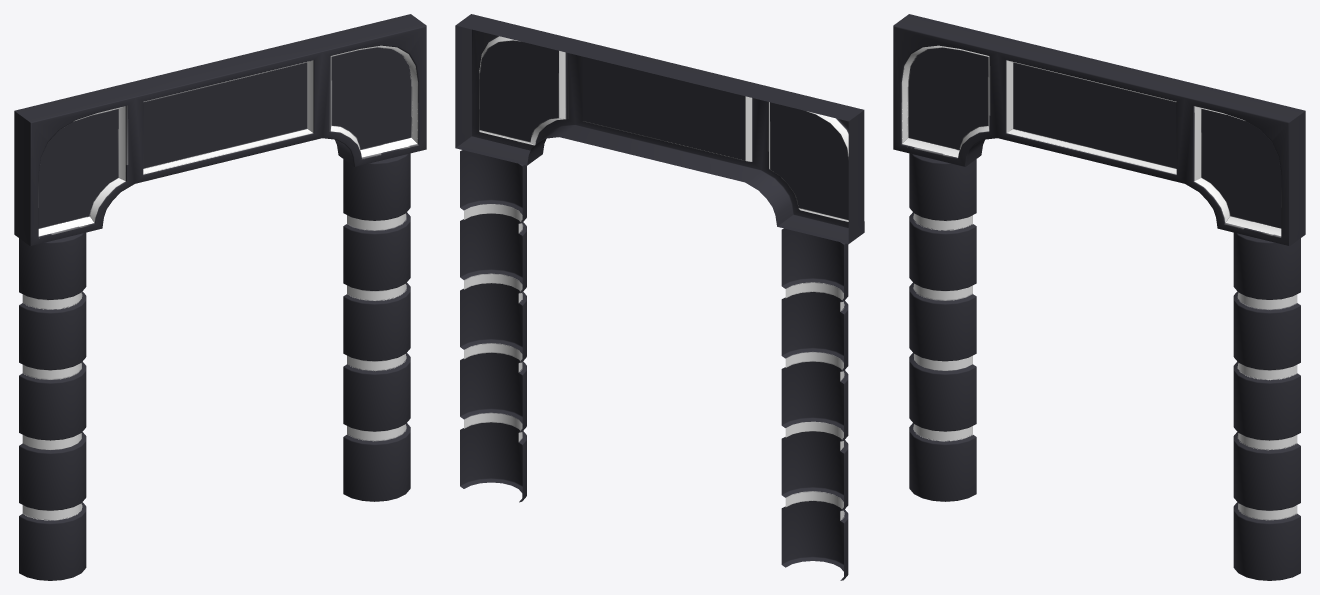
The model's file is DoorFrameLight03_2.FBX.
3 renders of one model, left to right at view 1: azimuth 30°, elevation 25°; view 2: azimuth 150°, elevation 25°; view 3: azimuth 330°, elevation 25°, orthographic.
Visible parts, largest first — view 1: DoorFrame03; view 2: DoorFrame03; view 3: DoorFrame03.
Part boxes in pixels (x1,y1,x2,y2): DoorFrame03: (14,14,426,580); DoorFrame03: (455,14,864,580); DoorFrame03: (893,14,1305,580).
Bounding box in the file's own units: 296 × 331 × 23.13.
